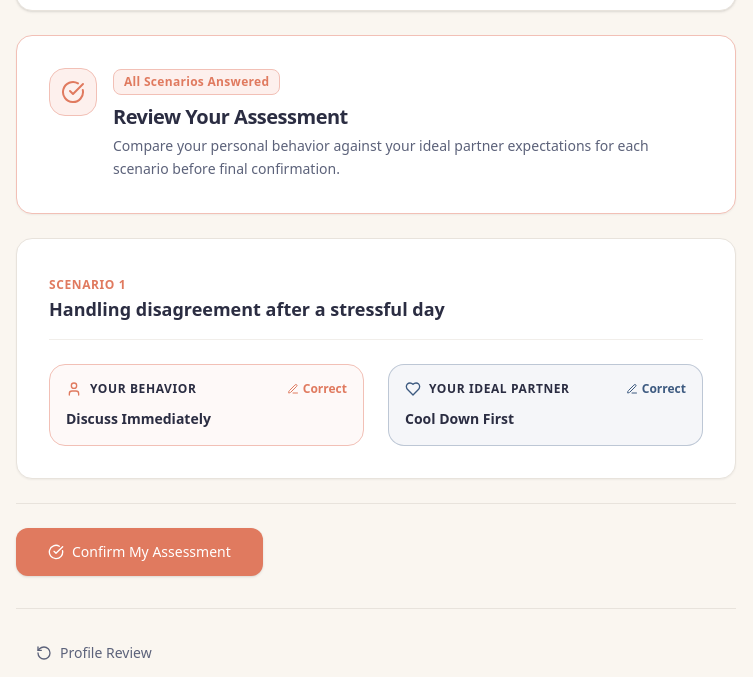
AssessmentPage Component — Phase 7.4 Requirements › 18. Explicit confirmation success
(page scrolled)
Click the button "Confirm My Assessment".
click(139, 552)  # box [16,528,263,576]
(page scrolled)
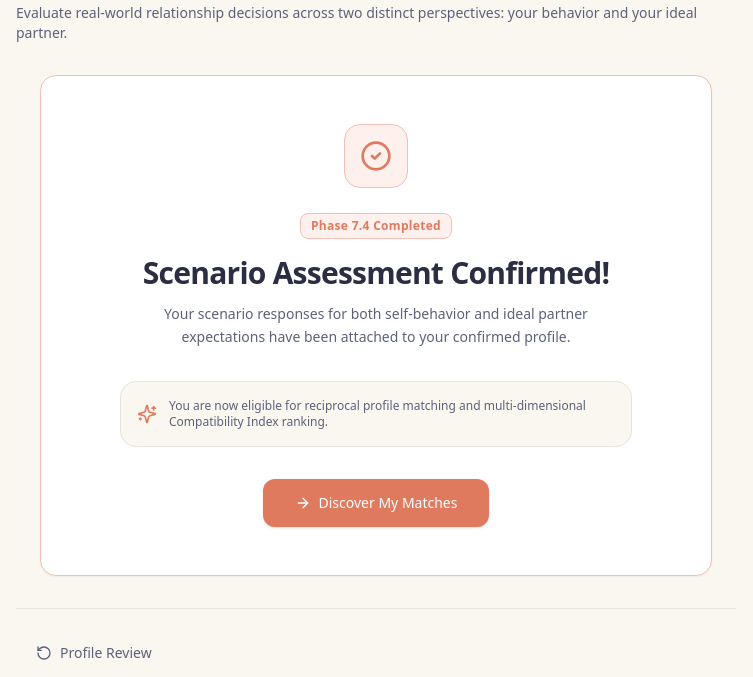
Expected: the heading "Scenario Assessment Confirmed!" is shown, [143,252,609,293]
Expected: the button "Discover My Matches" is shown, [262,478,489,526]
